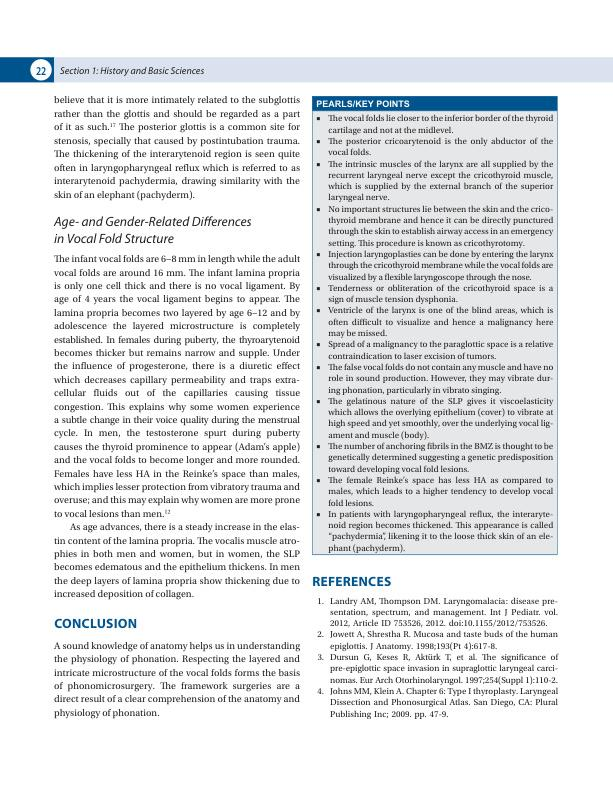caption: (315, 99, 411, 109)
header: (59, 66, 205, 77)
list: (314, 113, 555, 555), (315, 595, 559, 720)
section-heading: (53, 616, 137, 630), (311, 574, 392, 588)
sub-section-heading: (51, 215, 253, 245)
text: (52, 252, 302, 601), (52, 94, 301, 202), (52, 640, 301, 720)
